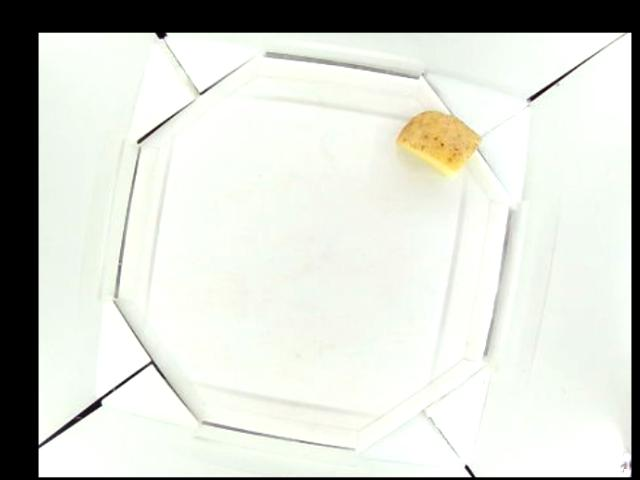Potato: (398, 110, 478, 174)
